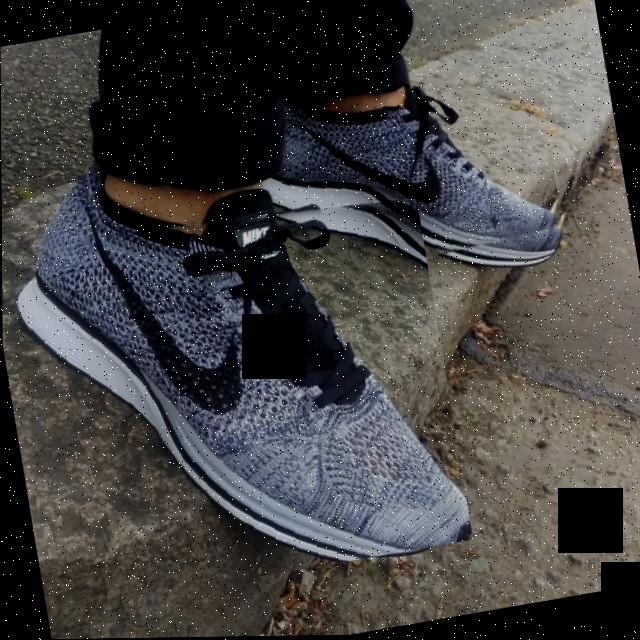shoe: (16, 178, 473, 609), (270, 62, 569, 289)
